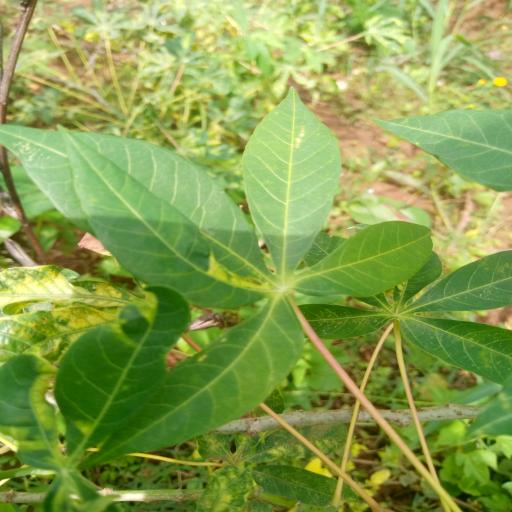Cassava_Mosaic: (0, 90, 426, 450), (290, 221, 512, 397)
